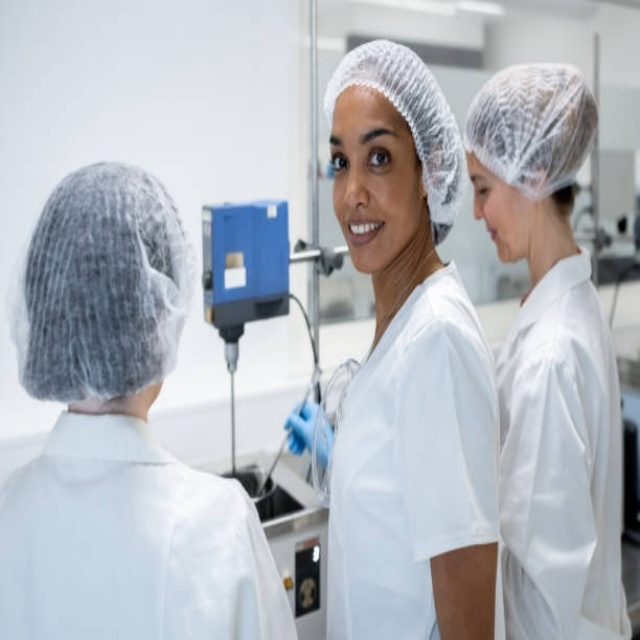Guantes: (284, 399, 334, 473)
Sin_gafas: (328, 125, 401, 177), (467, 166, 501, 199)
Sin_mascara: (342, 210, 388, 262), (482, 216, 517, 267)
